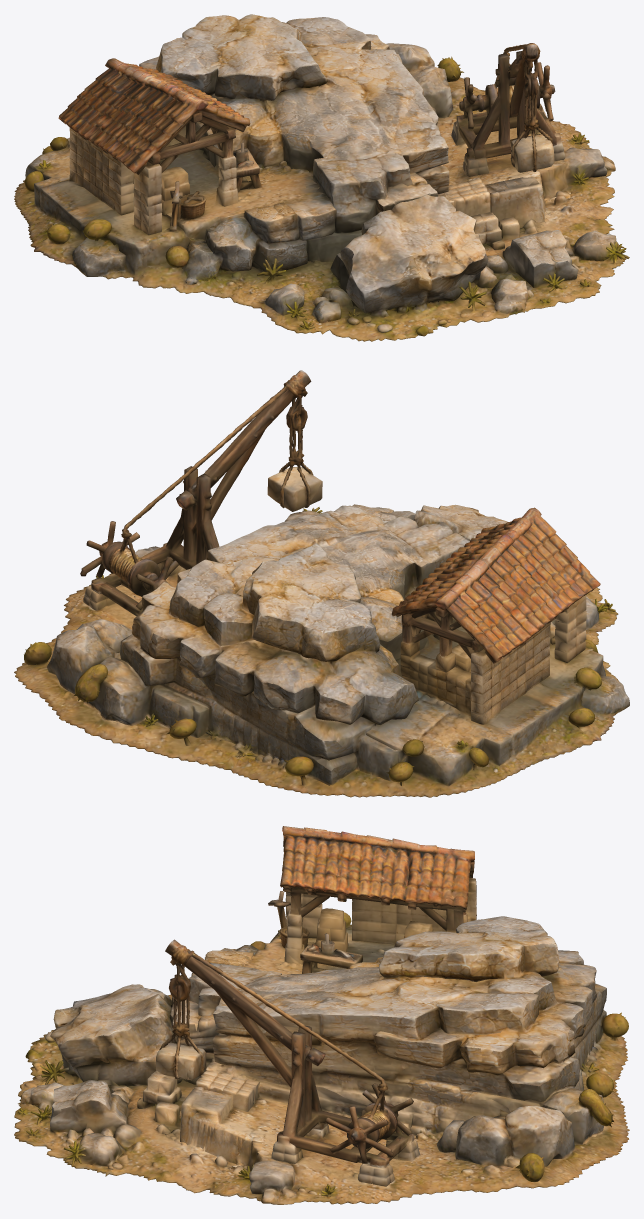
Rendered from SM_CanteraPiedra.fbx.
3 renders of one model, top to bottom at view 1: azimuth 30°, elevation 25°; view 2: azimuth 150°, elevation 25°; view 3: azimuth 270°, elevation 25°, orthographic. The views are drawn at different scales.
Parts seen in each view (by area): view 1: SM_CanteraPiedra; view 2: SM_CanteraPiedra; view 3: SM_CanteraPiedra.
Part boxes in pixels (x1=…): SM_CanteraPiedra: x1=14, y1=14, x2=629, y2=341; SM_CanteraPiedra: x1=14, y1=370, x2=629, y2=797; SM_CanteraPiedra: x1=14, y1=826, x2=629, y2=1204.
Bounding box in the file's own units: 100 × 37.18 × 95.63.
1 material, 1 textured.
